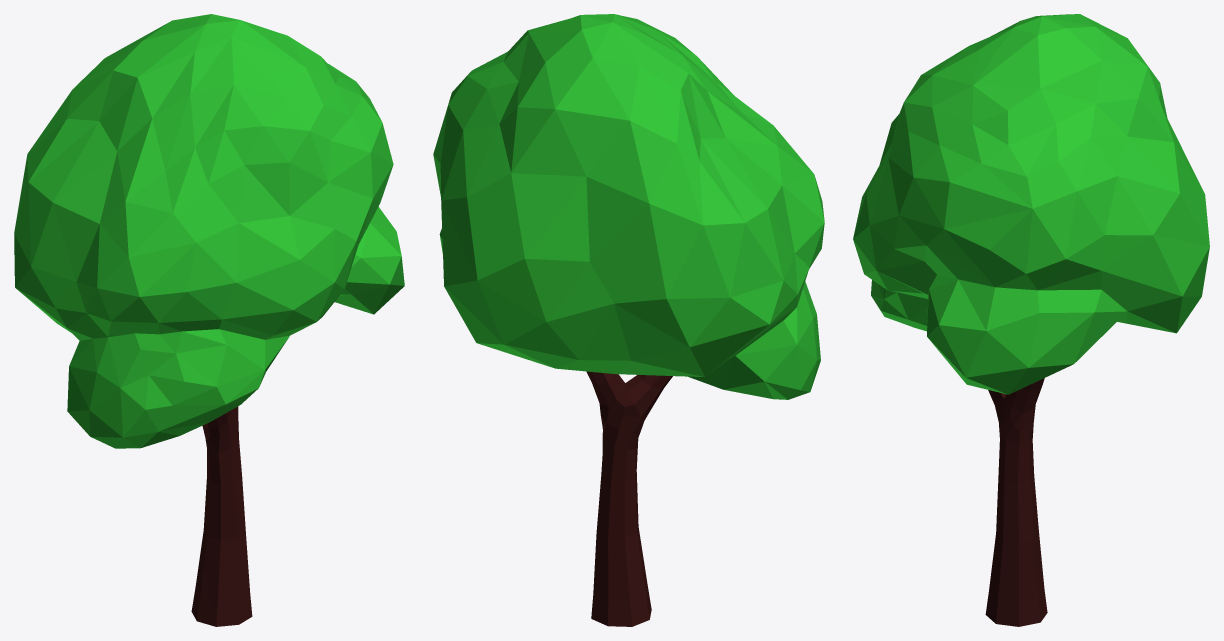
3 renders of one model, left to right at view 1: azimuth 30°, elevation 25°; view 2: azimuth 150°, elevation 25°; view 3: azimuth 270°, elevation 25°, orthographic. The views are drawn at different scales.
Visible parts, largest first — view 1: tree3_Icosphere.003, tree3_Icosphere.005; view 2: tree3_Icosphere.003, tree3_Icosphere.005; view 3: tree3_Icosphere.003, tree3_Icosphere.005.
Part boxes in pixels (x1,y1,x2,y2): tree3_Icosphere.003: (14, 14, 404, 448); tree3_Icosphere.005: (191, 406, 252, 626); tree3_Icosphere.003: (433, 14, 824, 399); tree3_Icosphere.005: (586, 371, 672, 626); tree3_Icosphere.003: (853, 14, 1209, 394); tree3_Icosphere.005: (985, 378, 1047, 626).
Size of the model in its own units: 12.8 by 21 by 11.41.
